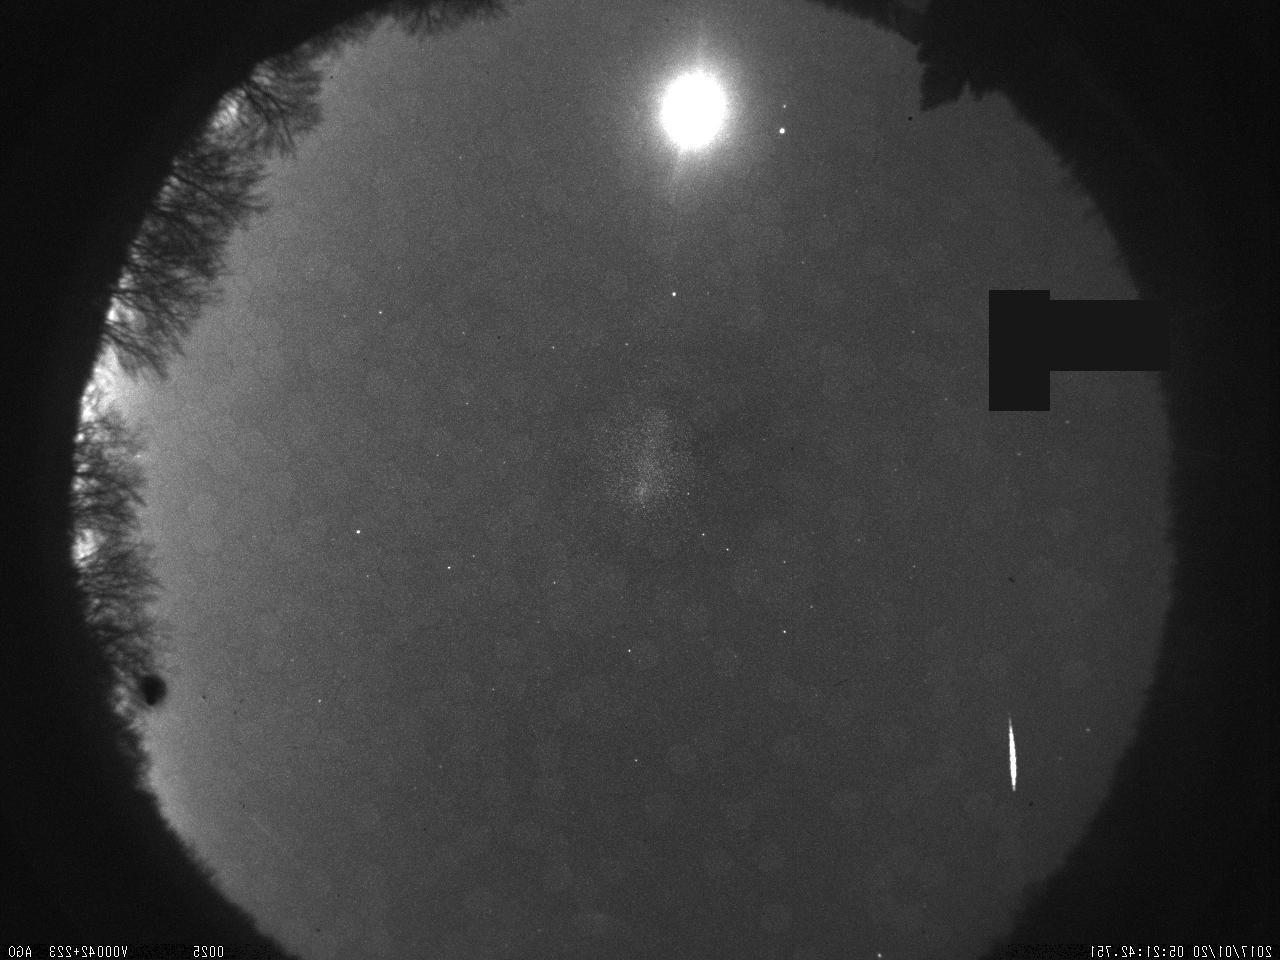meteor: (986, 700, 1038, 808)
